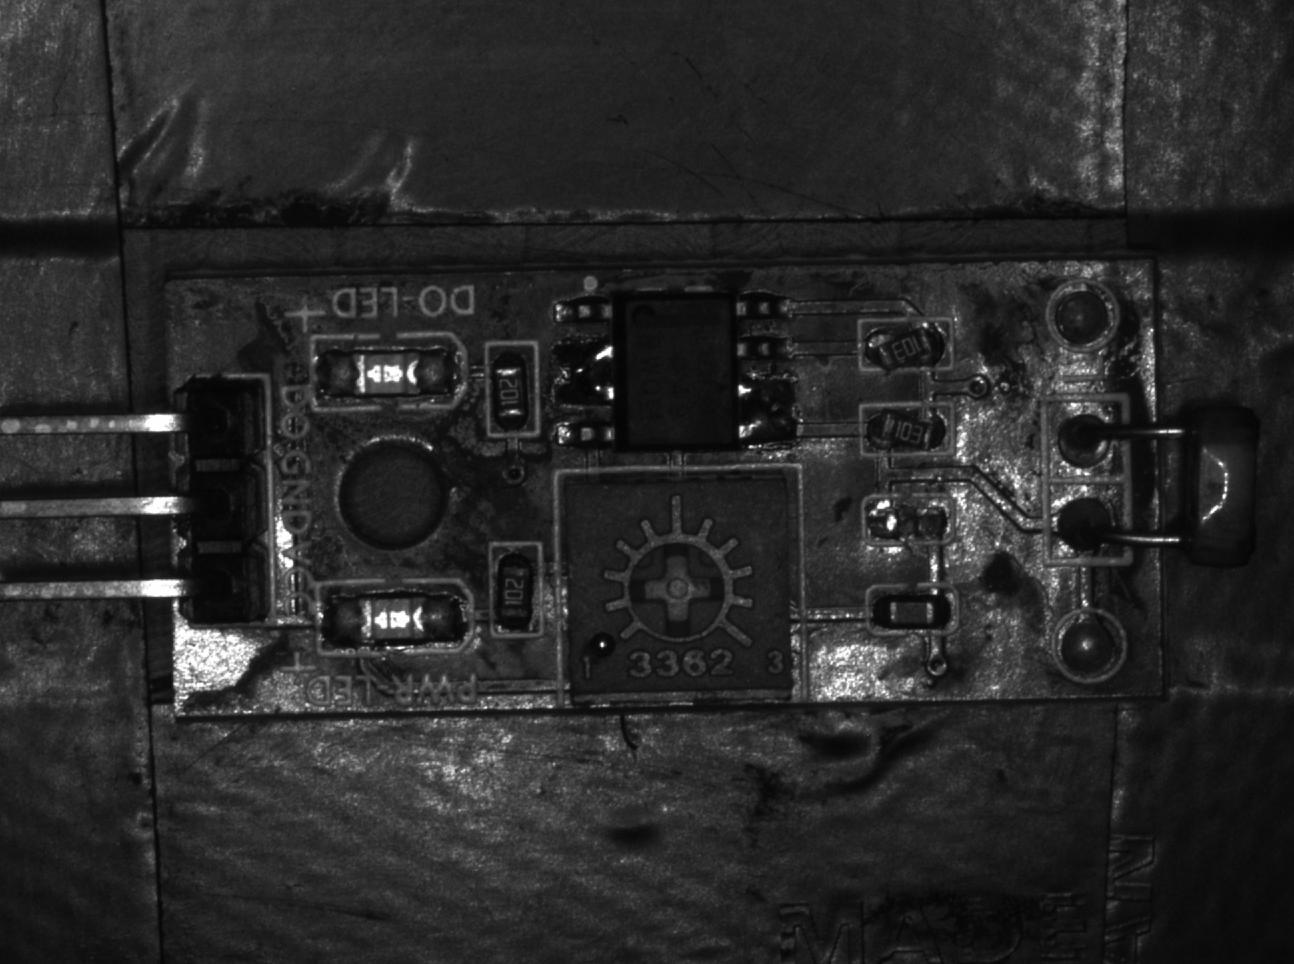bridge: (552, 335, 615, 409), (736, 377, 799, 447)
lifted: (860, 321, 956, 371), (859, 406, 954, 452)
miss: (860, 496, 955, 544)
ok: (489, 541, 544, 638), (486, 339, 539, 437), (866, 585, 959, 633)
